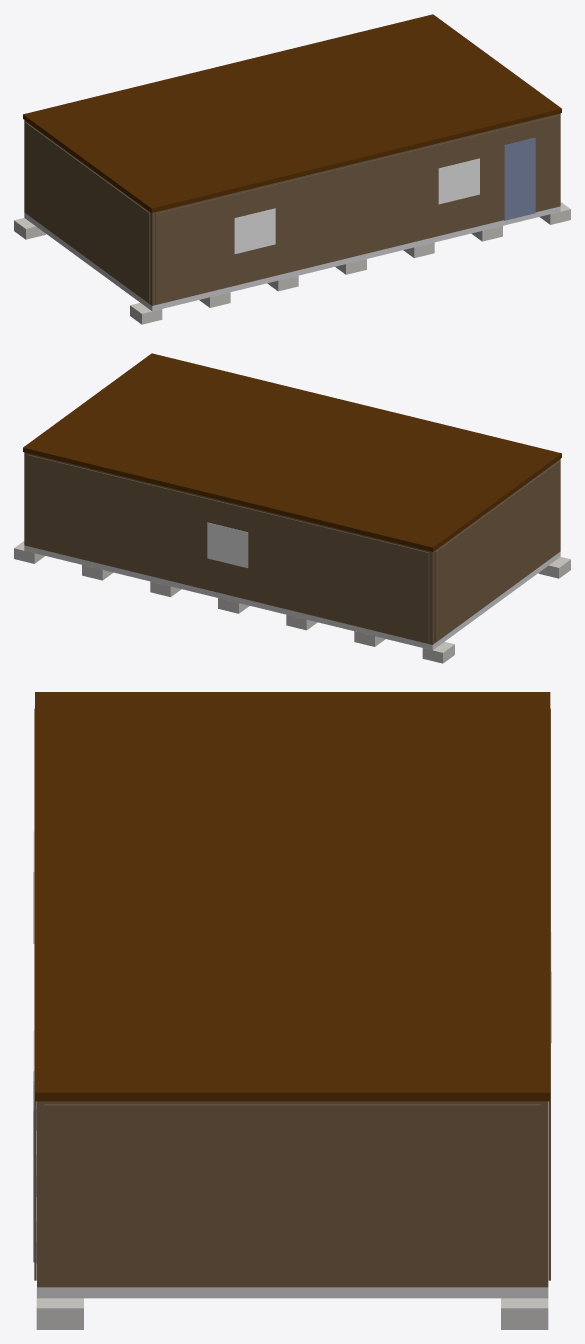
File: Studio-40-Base-WengeWood-LOD2.glb
3 views of the same model, one above another, from view 1: azimuth 30°, elevation 25°; view 2: azimuth 150°, elevation 25°; view 3: azimuth 270°, elevation 25° (orthographic). The views are drawn at different scales.
Parts seen in each view (by area): view 1: RoofMain, ExteriorPanelsStandard, BaseFrame, WindowsStandard, ExteriorShell, FoundationBlocks, EntryDoor; view 2: RoofMain, ExteriorPanelsStandard, BaseFrame, ExteriorShell, FoundationBlocks, WindowsStandard; view 3: RoofMain, ExteriorPanelsStandard, ExteriorShell, BaseFrame, FoundationBlocks.
Part boxes in pixels (<box>): RoofMain: <box>23,14,561,212</box>; ExteriorPanelsStandard: <box>25,115,557,303</box>; BaseFrame: <box>24,206,560,311</box>; WindowsStandard: <box>234,158,479,254</box>; ExteriorShell: <box>24,113,560,305</box>; FoundationBlocks: <box>14,202,570,324</box>; EntryDoor: <box>504,137,535,220</box>; RoofMain: <box>23,353,561,551</box>; ExteriorPanelsStandard: <box>27,454,559,642</box>; BaseFrame: <box>24,545,560,650</box>; ExteriorShell: <box>24,452,560,644</box>; FoundationBlocks: <box>14,541,570,663</box>; WindowsStandard: <box>207,522,248,568</box>; RoofMain: <box>35,692,550,1101</box>; ExteriorPanelsStandard: <box>34,708,550,1284</box>; ExteriorShell: <box>37,1101,548,1287</box>; BaseFrame: <box>37,1287,548,1298</box>; FoundationBlocks: <box>36,1101,548,1329</box>.
Size of the model in its own units: 12.49 by 3.17 by 6.53.
